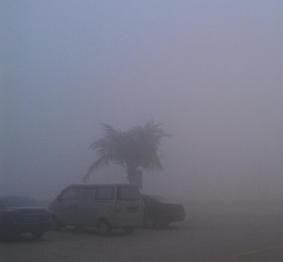car: (46, 181, 145, 235), (105, 191, 187, 231), (1, 192, 52, 242)
